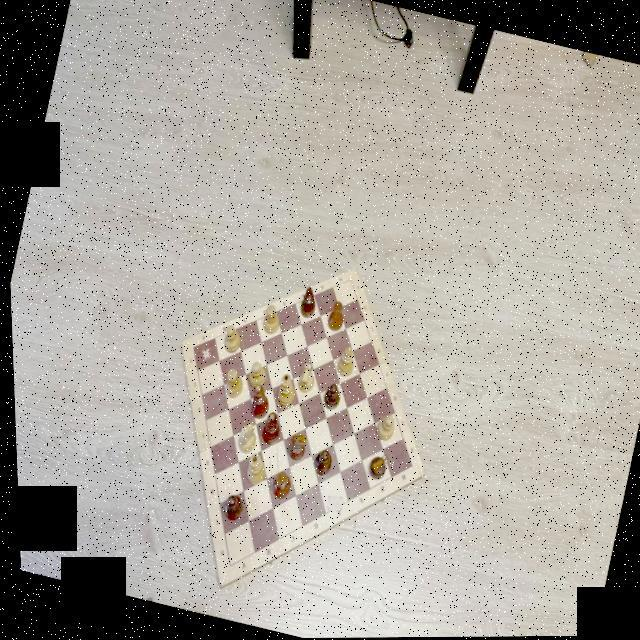chess-table-corners: (221, 562, 230, 572), (404, 462, 412, 470), (188, 344, 192, 350), (346, 277, 350, 282)
